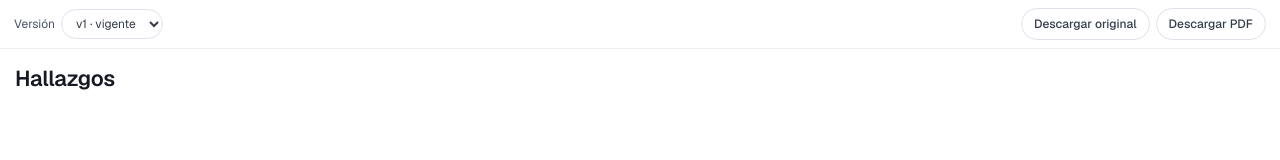
Test: vista rápida de entregables en la conversación › explica que el PDF se está preparando sin sustituir la versión solicitada
Expected: the heading "Hallazgos" is shown, [15,64,115,92]
Click the button "Descargar PDF" at point(1211, 24), box [1156,8,1266,40]
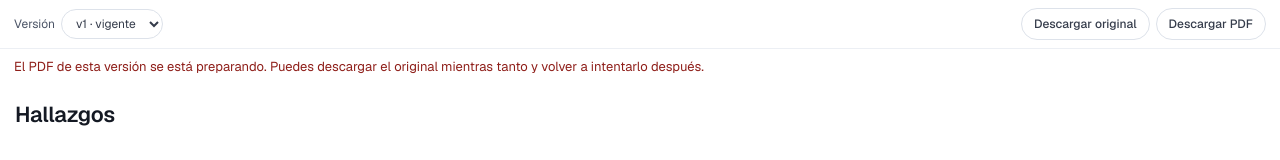
Result: the message shows "El PDF de esta versión se está preparando" at [14,58,704,75]
